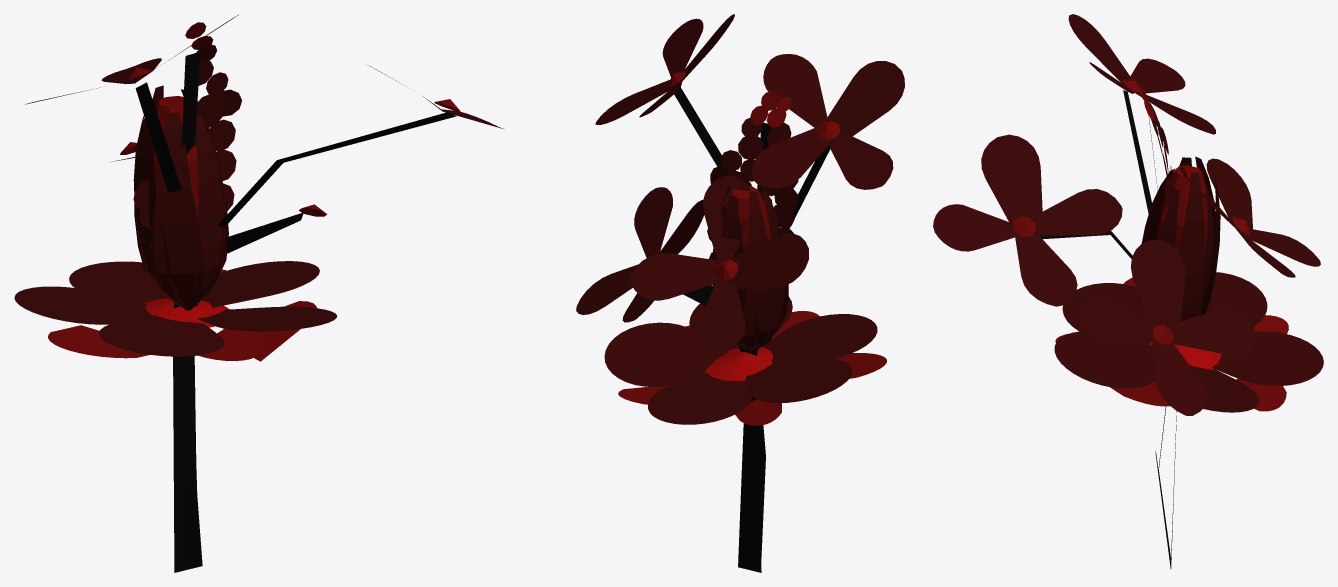
The model's file is flowers.fbx.
The picture shows the model from 3 angles, left to right: view 1: azimuth 30°, elevation 25°; view 2: azimuth 150°, elevation 25°; view 3: azimuth 270°, elevation 25°; orthographic projection. The views are drawn at different scales.
Visible parts, largest first — view 1: flower_1, flower_4, flower_2, flower_3; view 2: flower_2, flower_1, flower_3, flower_4; view 3: flower_2, flower_1, flower_4, flower_3.
Part boxes in pixels (left/top/right/bottom): flower_1: left=14, top=261, right=337, bottom=361; flower_4: left=133, top=85, right=228, bottom=310; flower_2: left=25, top=15, right=503, bottom=566; flower_3: left=133, top=22, right=241, bottom=572; flower_2: left=576, top=14, right=904, bottom=353; flower_1: left=604, top=296, right=886, bottom=529; flower_3: left=707, top=91, right=798, bottom=572; flower_4: left=712, top=182, right=788, bottom=559; flower_2: left=933, top=14, right=1320, bottom=469; flower_1: left=1054, top=272, right=1323, bottom=565; flower_4: left=1138, top=156, right=1220, bottom=569; flower_3: left=1136, top=80, right=1176, bottom=568.
Bounding box in the file's own units: 26.03 × 35.39 × 24.84.
